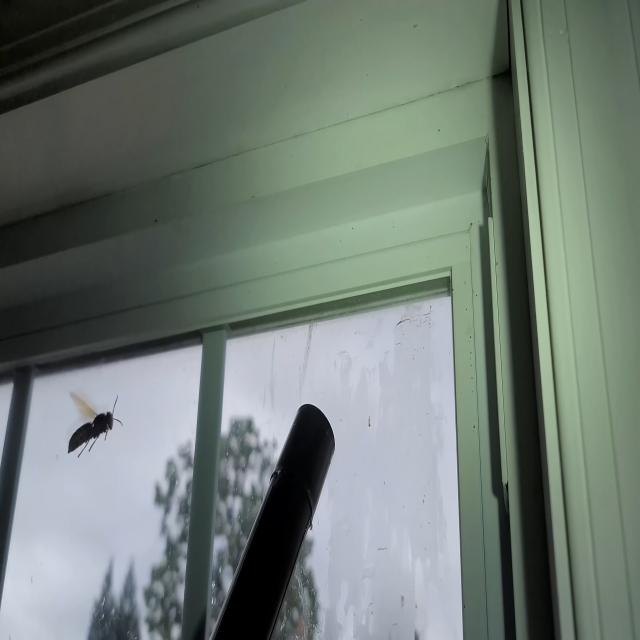Hornets: (66, 388, 122, 458)
